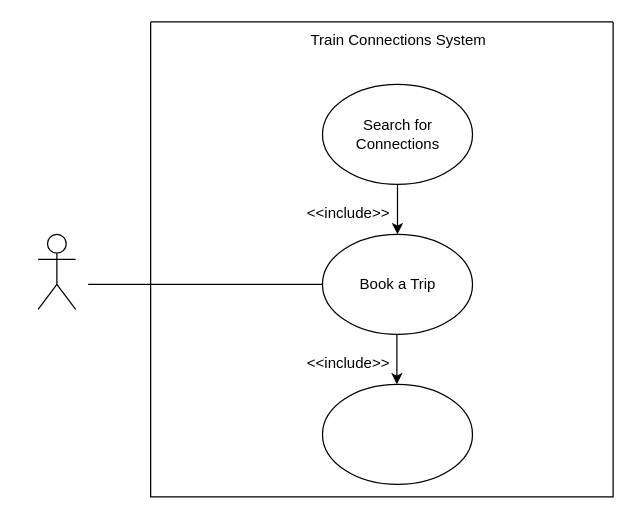
This 635x519 diagram has some shape labels left out. Here are the shapes that lost their labels. From the top down, the centre of each, then its label:
pixel 56 271: Client <<Actor>>
pixel 396 433: Load Records
